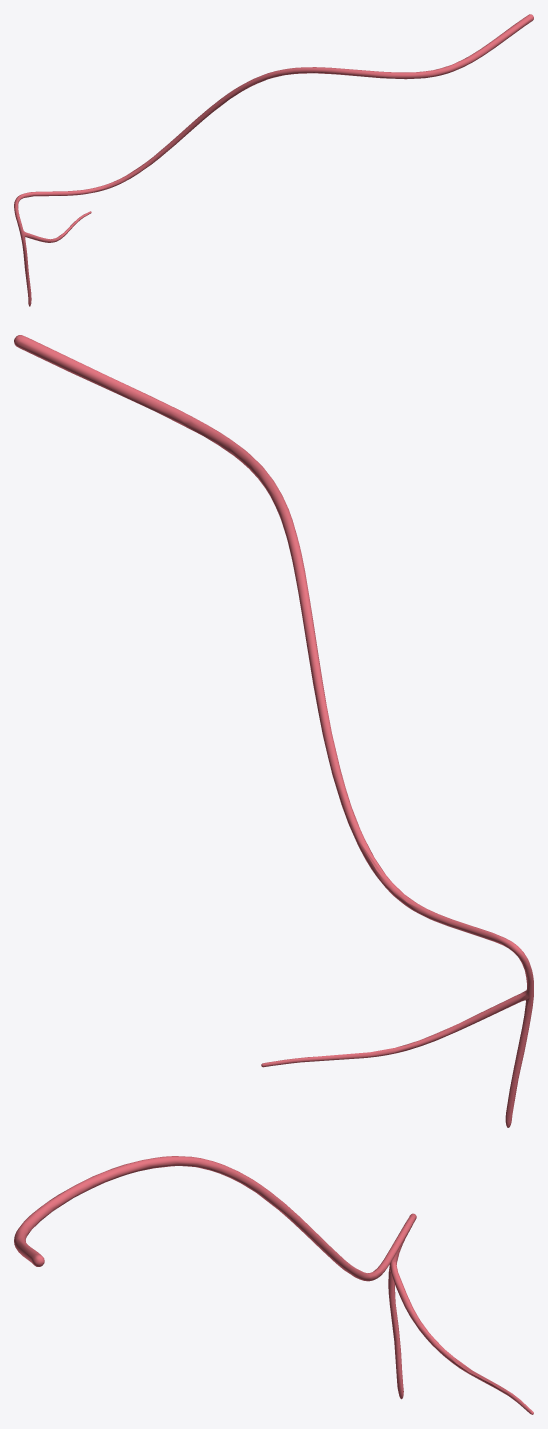
Rendered from fma10698_fj2303.glb.
3 renders of one model, top to bottom at view 1: azimuth 30°, elevation 25°; view 2: azimuth 150°, elevation 25°; view 3: azimuth 270°, elevation 25°, orthographic. The views are drawn at different scales.
Parts seen in each view (by area): view 1: FMA10698_FJ2303; view 2: FMA10698_FJ2303; view 3: FMA10698_FJ2303.
Boxes of the visible parts, x1=… form: FMA10698_FJ2303: x1=14, y1=14, x2=533, y2=306; FMA10698_FJ2303: x1=14, y1=335, x2=533, y2=1127; FMA10698_FJ2303: x1=14, y1=1156, x2=533, y2=1414.
Bounding box in the file's own units: 0.0971 × 0.0633 × 0.0655.
